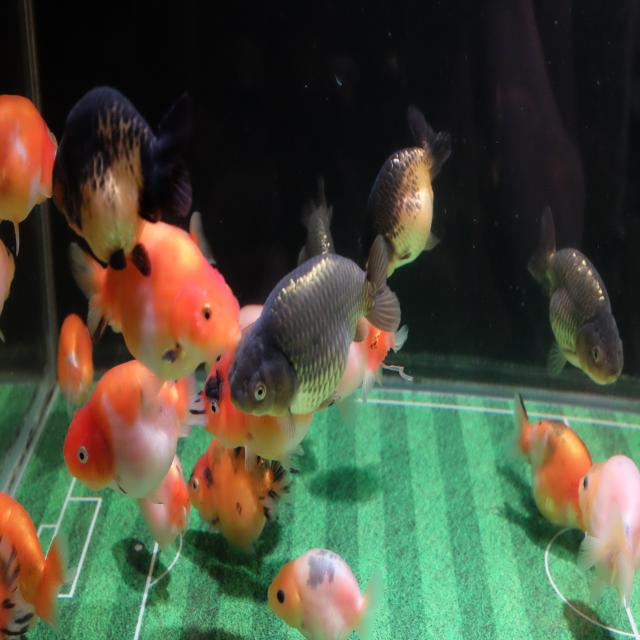Tilapia: (227, 233, 402, 419), (67, 214, 243, 381), (51, 81, 197, 279), (62, 355, 209, 508), (527, 204, 625, 388), (354, 105, 453, 282), (187, 434, 298, 556), (506, 390, 594, 536), (0, 489, 76, 640), (267, 545, 382, 640), (577, 453, 640, 612), (0, 91, 57, 257), (57, 312, 95, 429)
